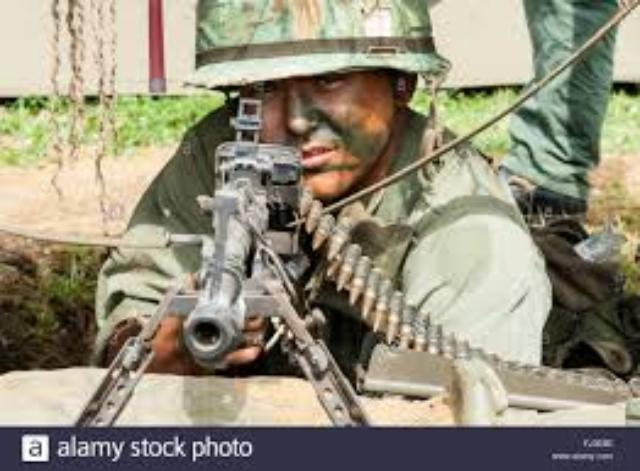other: (105, 1, 547, 366)
